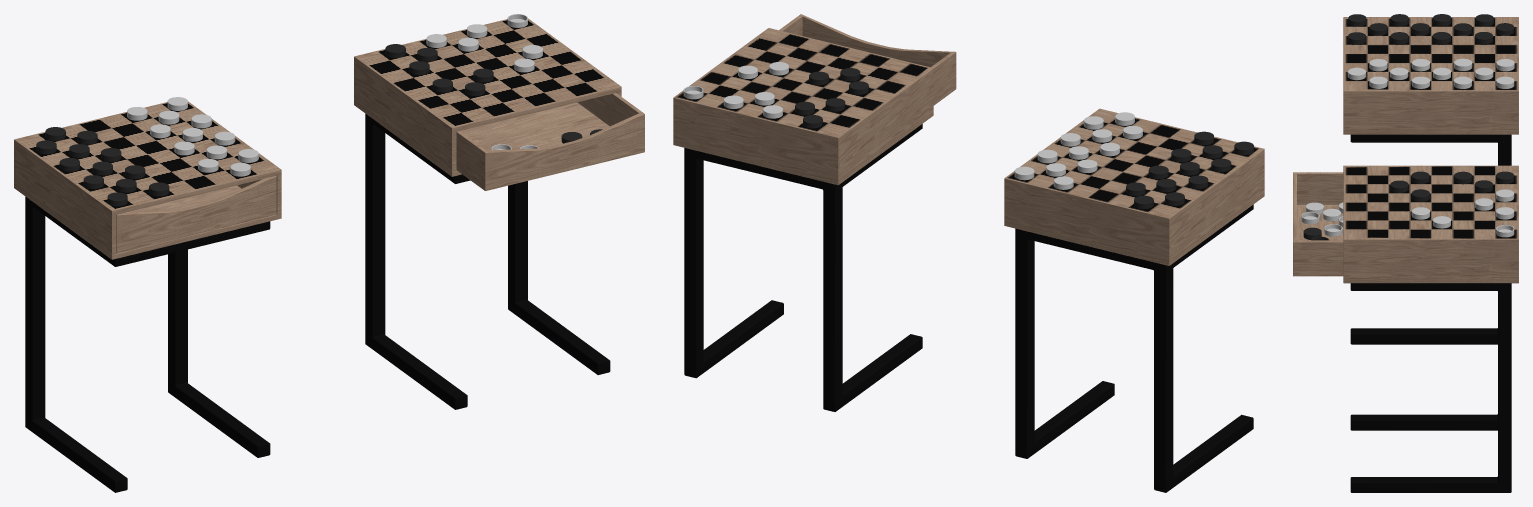
3 views of the same model, side by side, from view 1: azimuth 30°, elevation 25°; view 2: azimuth 150°, elevation 25°; view 3: azimuth 270°, elevation 25° (orthographic). The views are drawn at different scales.
Parts seen in each view (by area): view 1: Checker2, Checker; view 2: Checker2, Checker; view 3: Checker2, Checker.
Part boxes in pixels (left/top/right/bottom): Checker2: left=354, top=14, right=644, bottom=409; Checker: left=14, top=97, right=281, bottom=492; Checker2: left=673, top=14, right=956, bottom=411; Checker: left=1004, top=108, right=1264, bottom=492; Checker2: left=1293, top=165, right=1518, bottom=492; Checker: left=1343, top=14, right=1518, bottom=344.
Size of the model in its own units: 1.5 by 0.8223 by 0.6434.
Materials: 2 (2 with a texture image).
